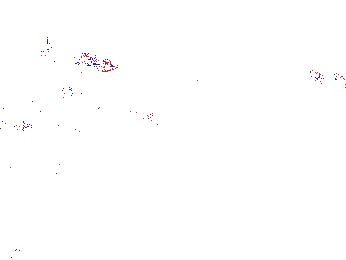X-ray fish: (223, 1, 283, 38)
glassfish: (79, 95, 175, 136), (1, 91, 75, 143)
red belly glassfish: (307, 68, 332, 88), (332, 71, 346, 86)
redtail glassfish: (42, 35, 117, 72), (56, 80, 100, 100)
